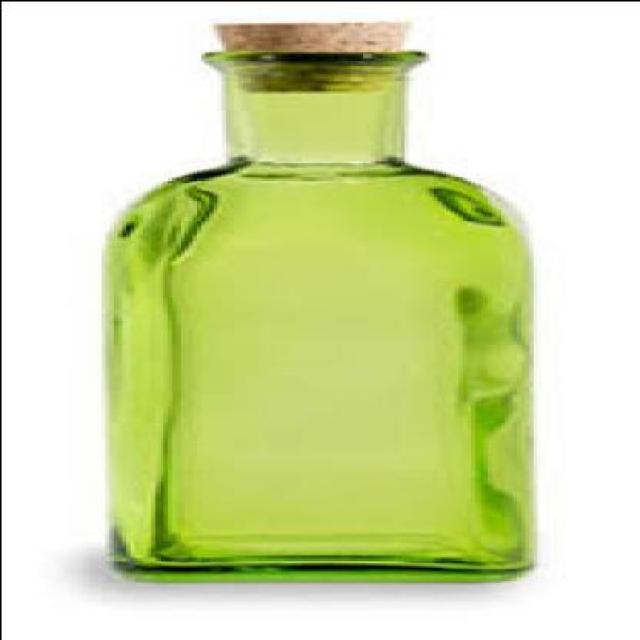GLASS: (104, 49, 528, 578)
